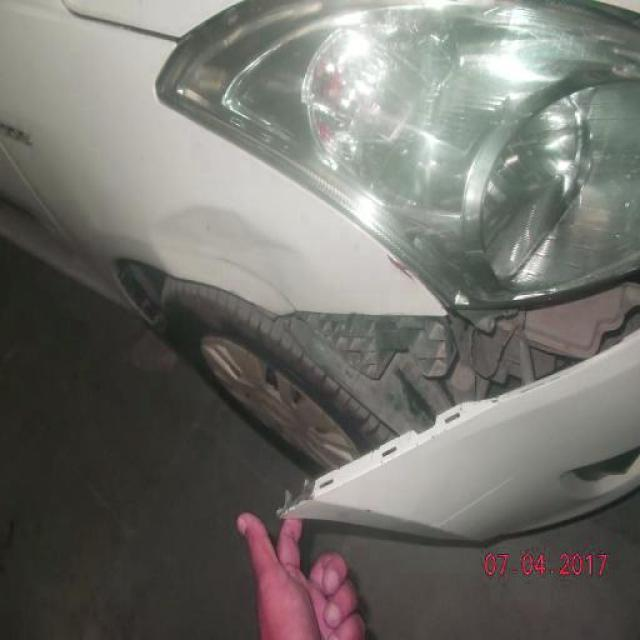Car-Damage: (269, 270, 640, 513), (157, 202, 302, 311), (381, 249, 420, 285)
